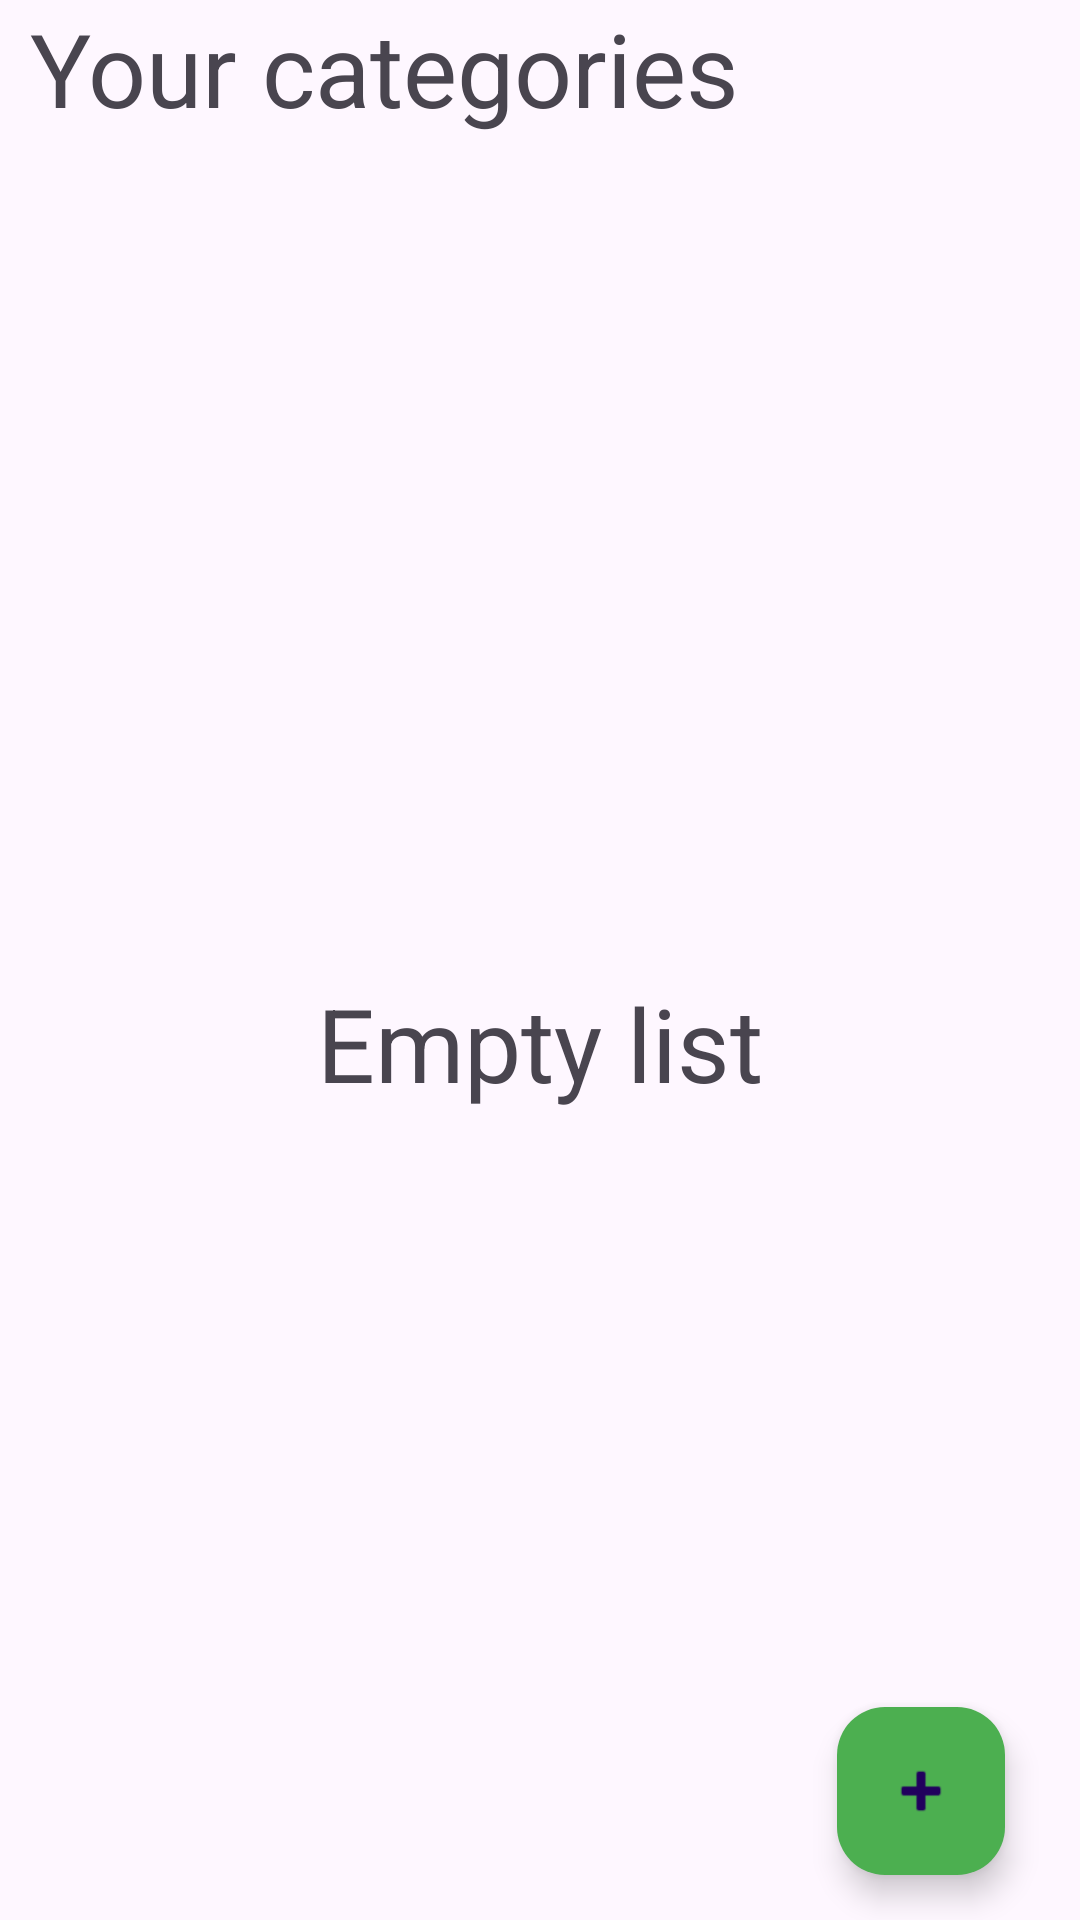

Where icons sit on this 1080 × 1920 app screen, as (x1, y1, x2, y2):
Add new category: (837, 1707, 1005, 1875)
